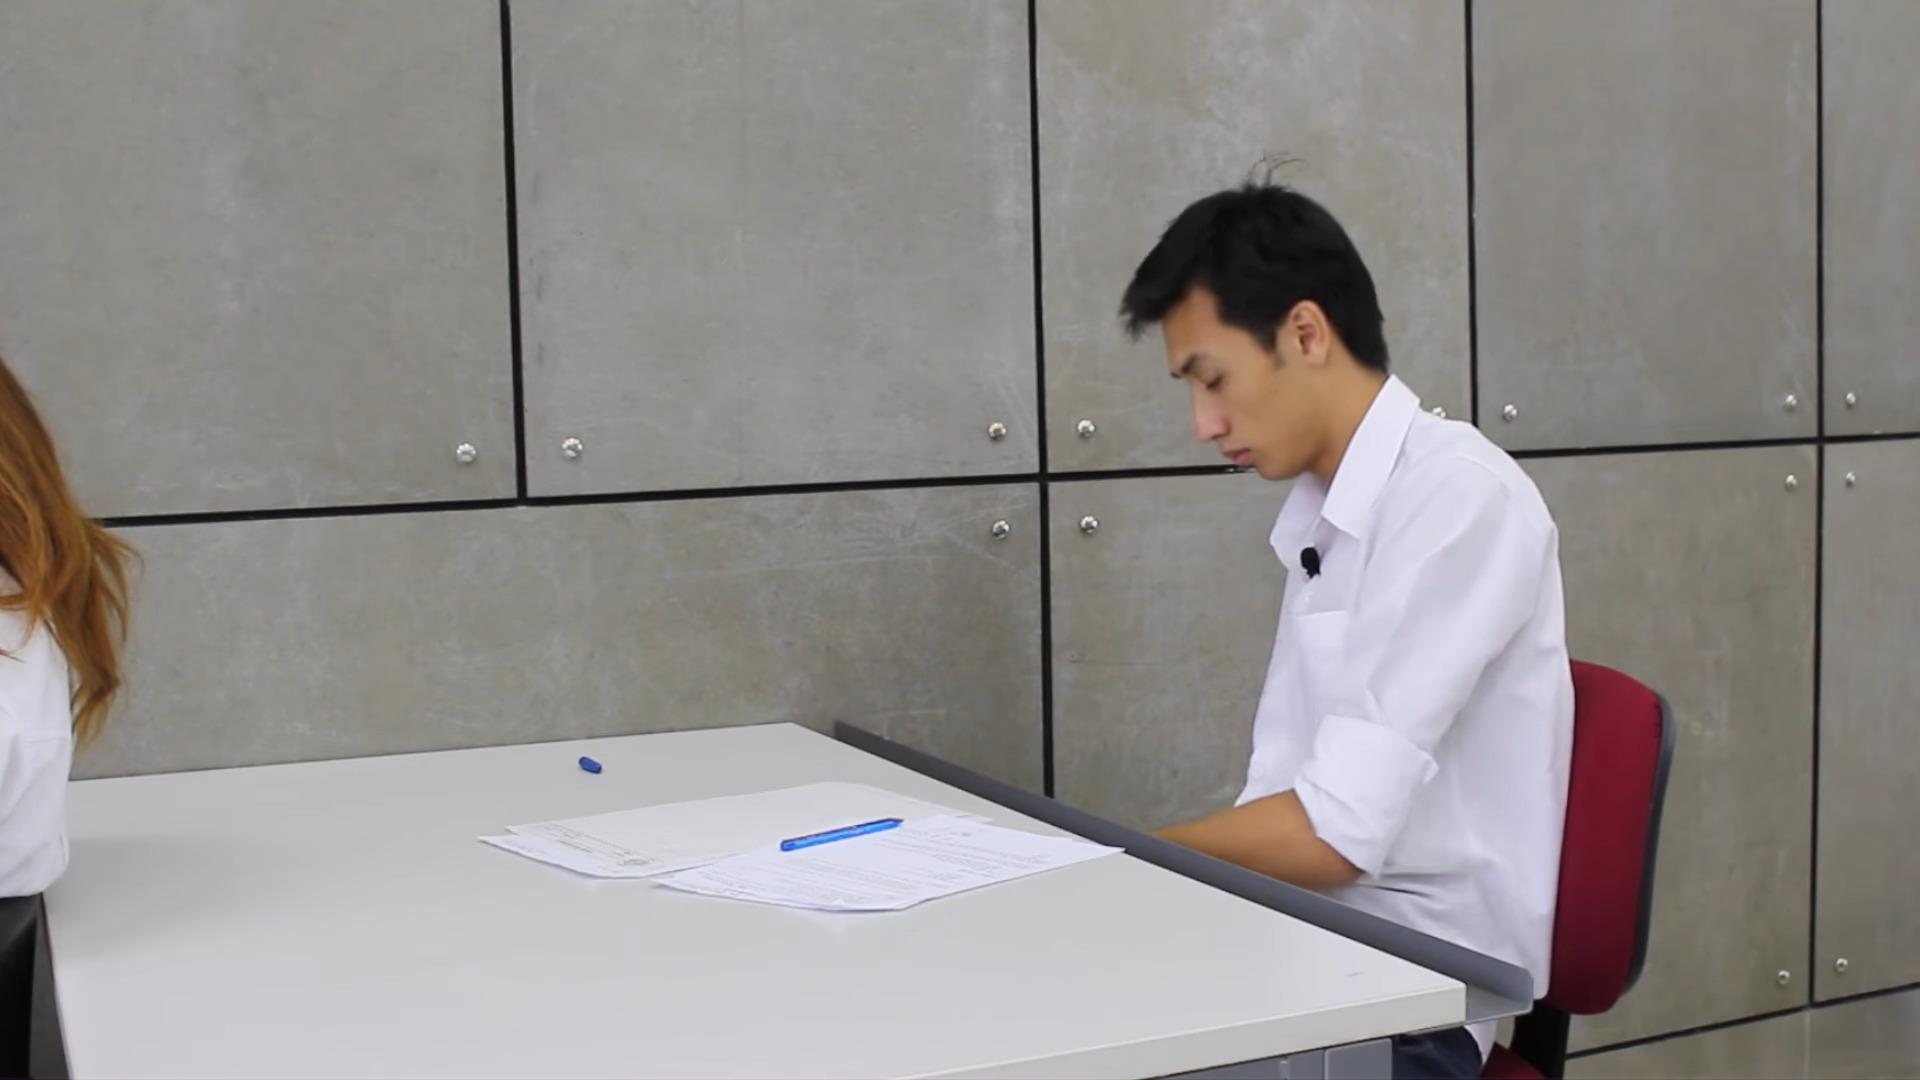cheating: (440, 145, 1626, 960)
